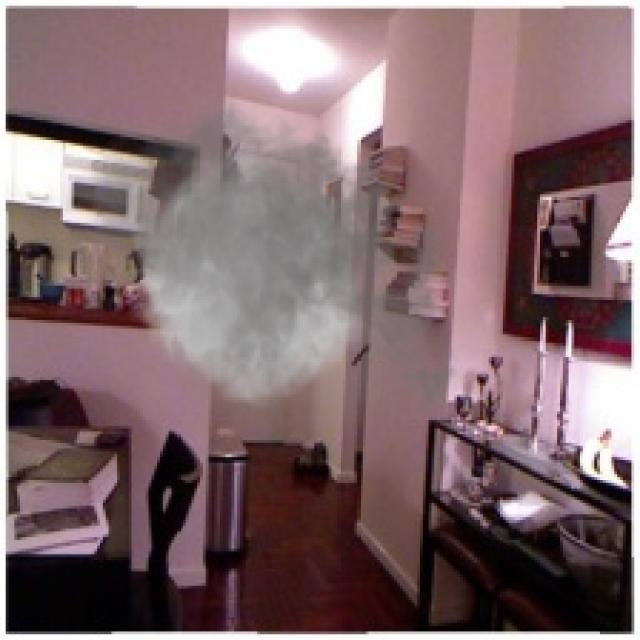smoke: (74, 80, 469, 474)
